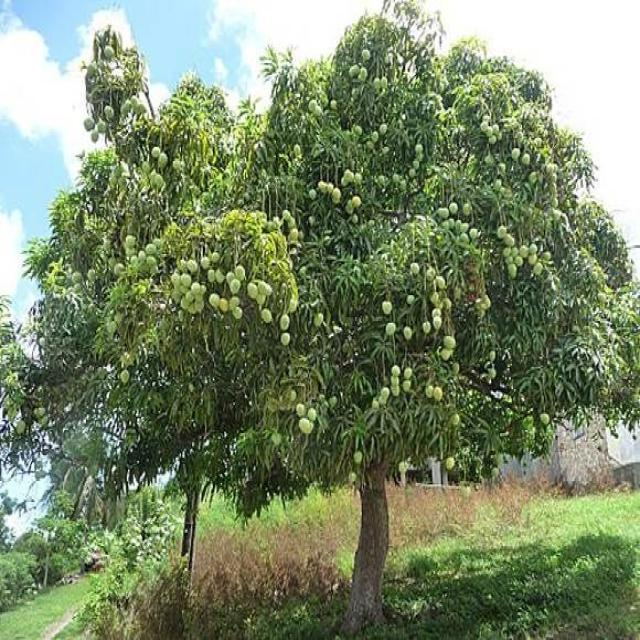Mango-Tree: (56, 37, 616, 538)
